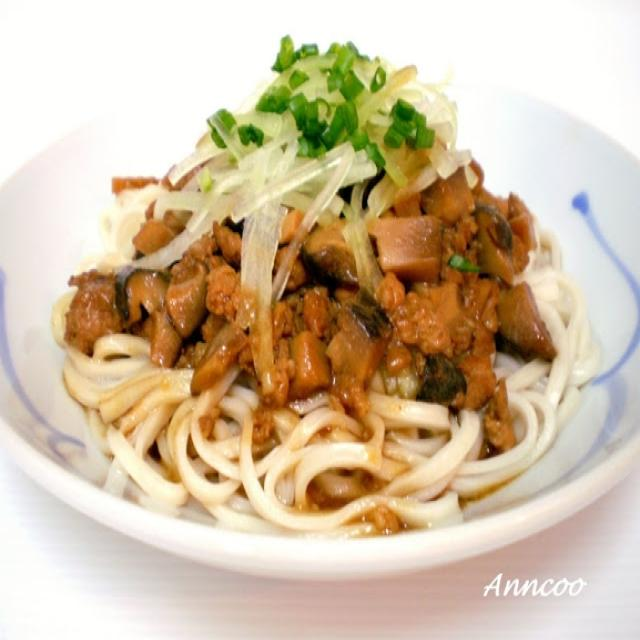面条主食: (18, 10, 628, 572)
